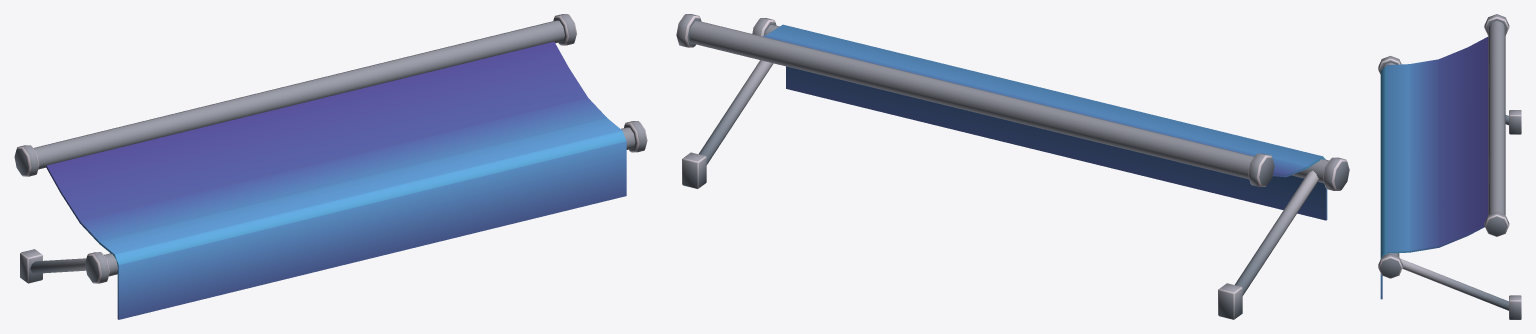
Rendered from sp_build_prop_awning01.fbx.
3 views of the same model, side by side, from view 1: azimuth 30°, elevation 25°; view 2: azimuth 150°, elevation 25°; view 3: azimuth 270°, elevation 25° (orthographic). The views are drawn at different scales.
Parts seen in each view (by area): view 1: build_prop_awning_01; view 2: build_prop_awning_01; view 3: build_prop_awning_01.
Part boxes in pixels (left/top/right/bottom): build_prop_awning_01: left=14, top=14, right=647, bottom=319; build_prop_awning_01: left=676, top=14, right=1349, bottom=319; build_prop_awning_01: left=1378, top=14, right=1521, bottom=319.
Bounding box in the file's own units: 491 × 125 × 148.
